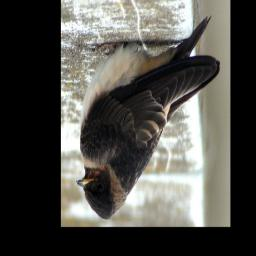Swallow: (75, 13, 221, 221)
